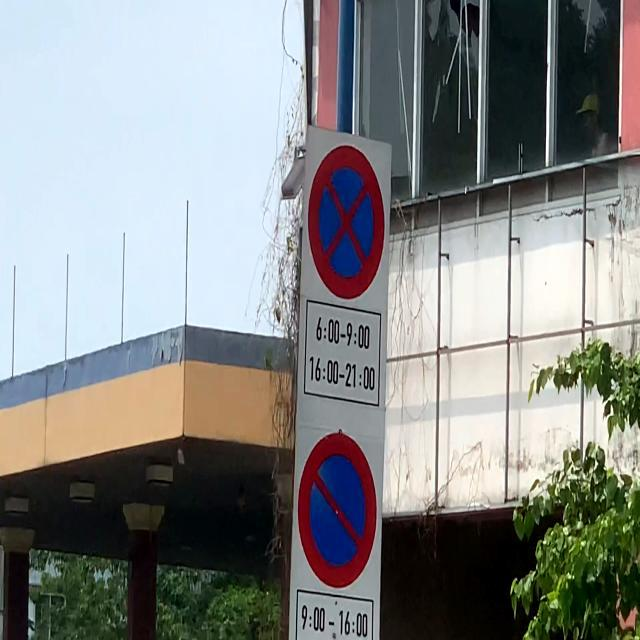Cam do xe: (297, 422, 378, 587)
Cam dung xe va do xe: (304, 139, 390, 302)
